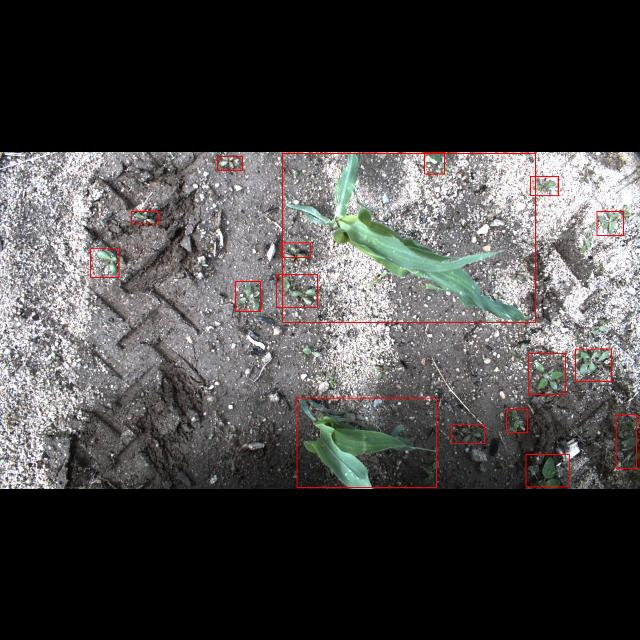crop: (282, 152, 536, 322), (297, 397, 437, 487)
weed: (528, 352, 566, 393), (276, 274, 318, 306), (526, 454, 568, 486), (576, 348, 612, 380), (616, 414, 636, 468), (90, 248, 118, 276), (236, 281, 260, 311), (597, 210, 623, 236), (452, 424, 484, 444), (506, 408, 528, 432), (530, 176, 558, 194), (424, 152, 444, 172), (282, 242, 310, 256), (131, 210, 159, 223), (218, 155, 242, 169)
